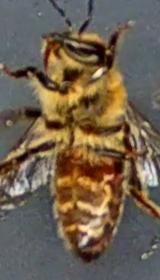varroa_mite: (98, 154, 125, 192)
